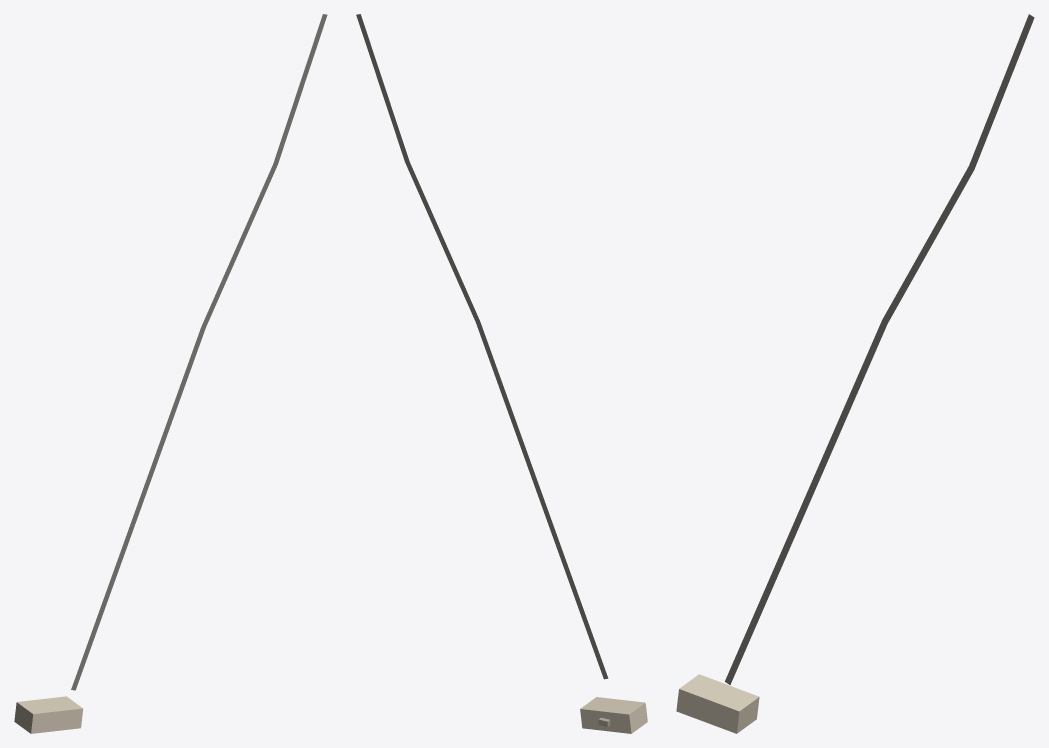
Rendered from historic-palestine-09_08_3510_3028.glb.
The picture shows the model from 3 angles, left to right: view 1: azimuth 30°, elevation 25°; view 2: azimuth 150°, elevation 25°; view 3: azimuth 330°, elevation 25°; orthographic projection. The views are drawn at different scales.
Parts seen in each view (by area): view 1: Road, Building_; view 2: Road, Building_; view 3: Road, Building_.
Boxes of the visible parts, box(x1,y1,x2,y2) form: Road: box(71, 14, 327, 690); Building_: box(14, 696, 83, 733); Road: box(356, 14, 608, 679); Building_: box(580, 697, 647, 733); Road: box(725, 14, 1034, 684); Building_: box(676, 674, 759, 733).
Size of the model in its own units: 77.14 by 163 by 8.7.
